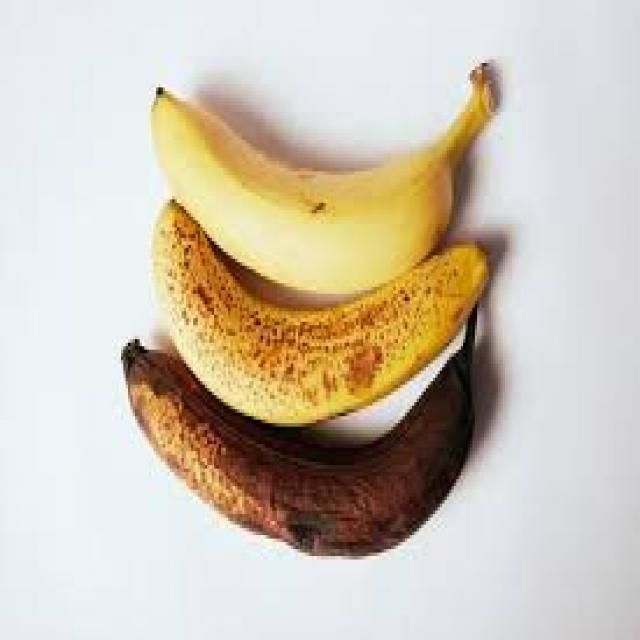organic waste: (118, 297, 474, 560), (147, 56, 491, 297), (154, 196, 488, 420)
